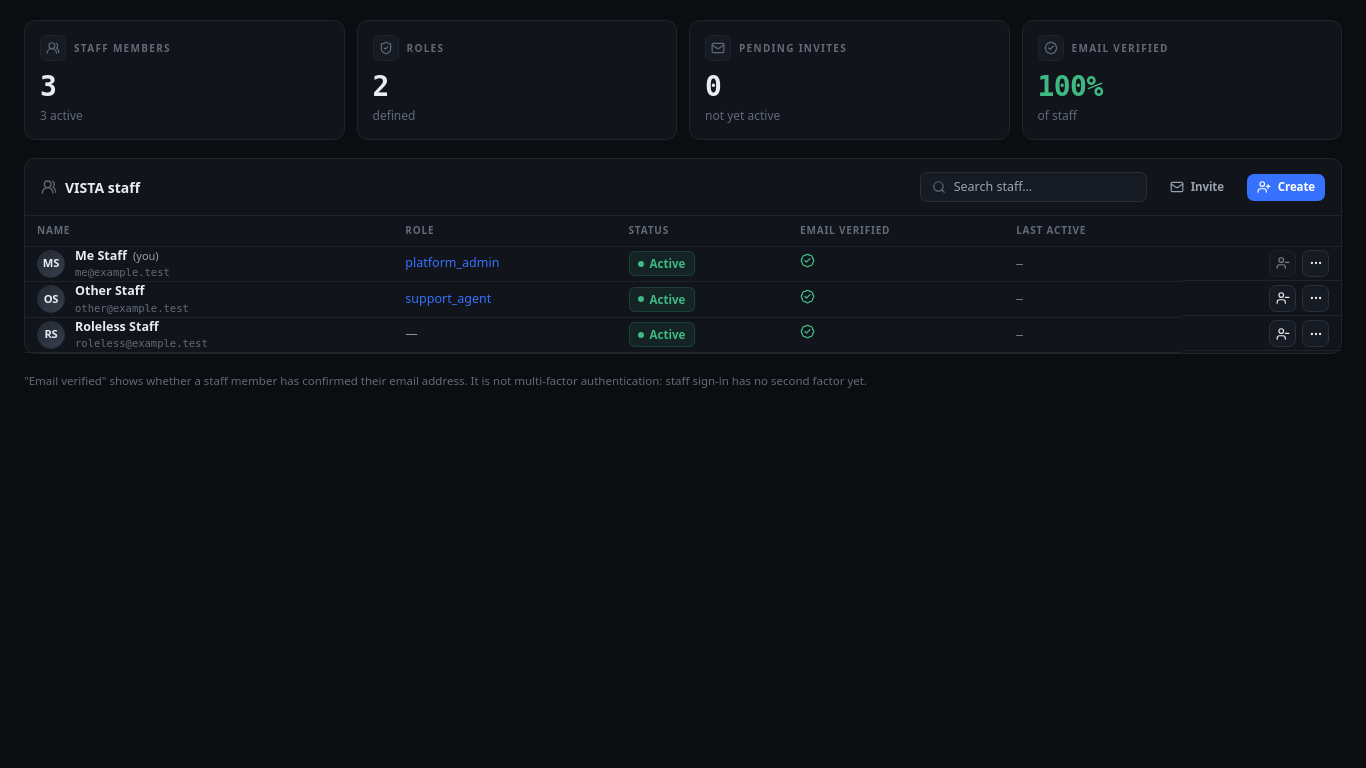
Scenario: Staff role gating › a super_admin may open their own role
Step 1. Click the button with class "op-btn" in the row of "MS" → {"x": 1316, "y": 263}, box [1302,250,1329,276]
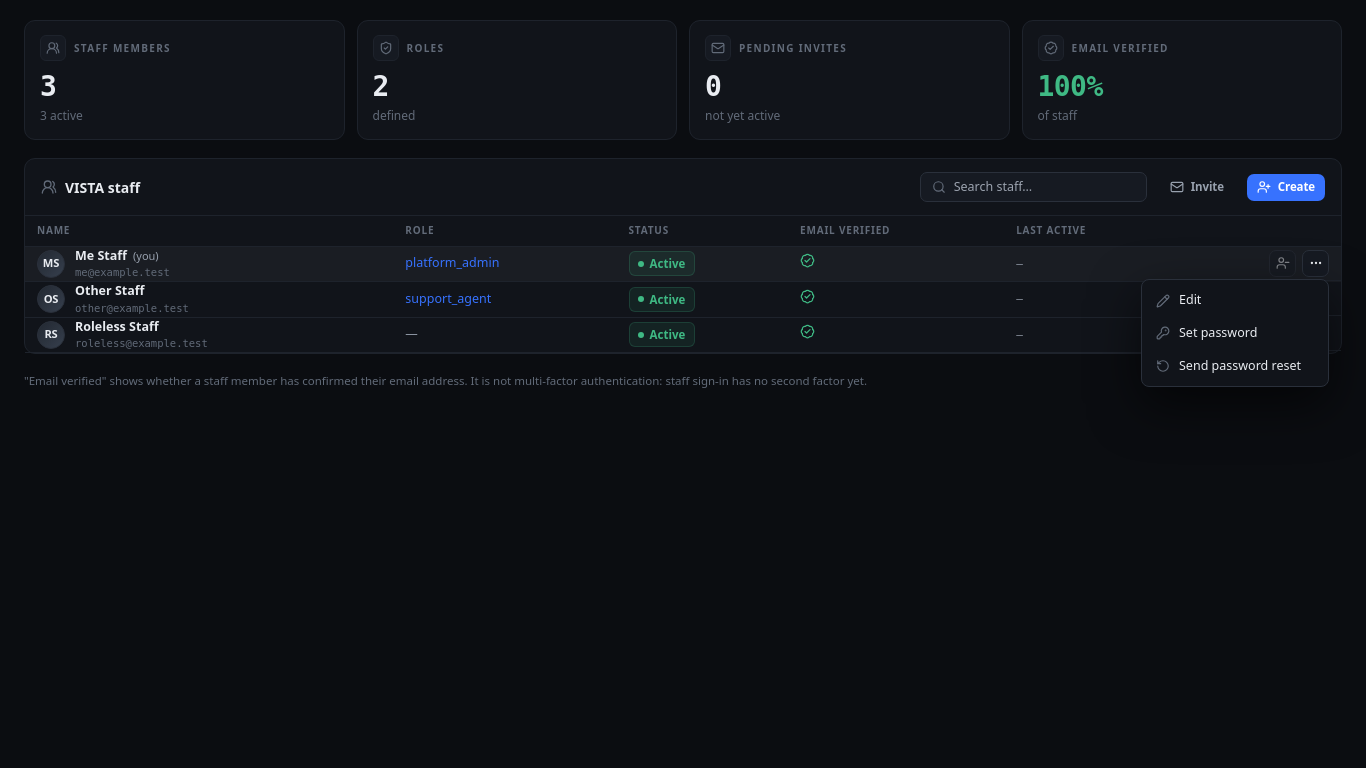
Step 2. Click the button "Edit" → {"x": 1235, "y": 301}, box [1146,284,1324,317]
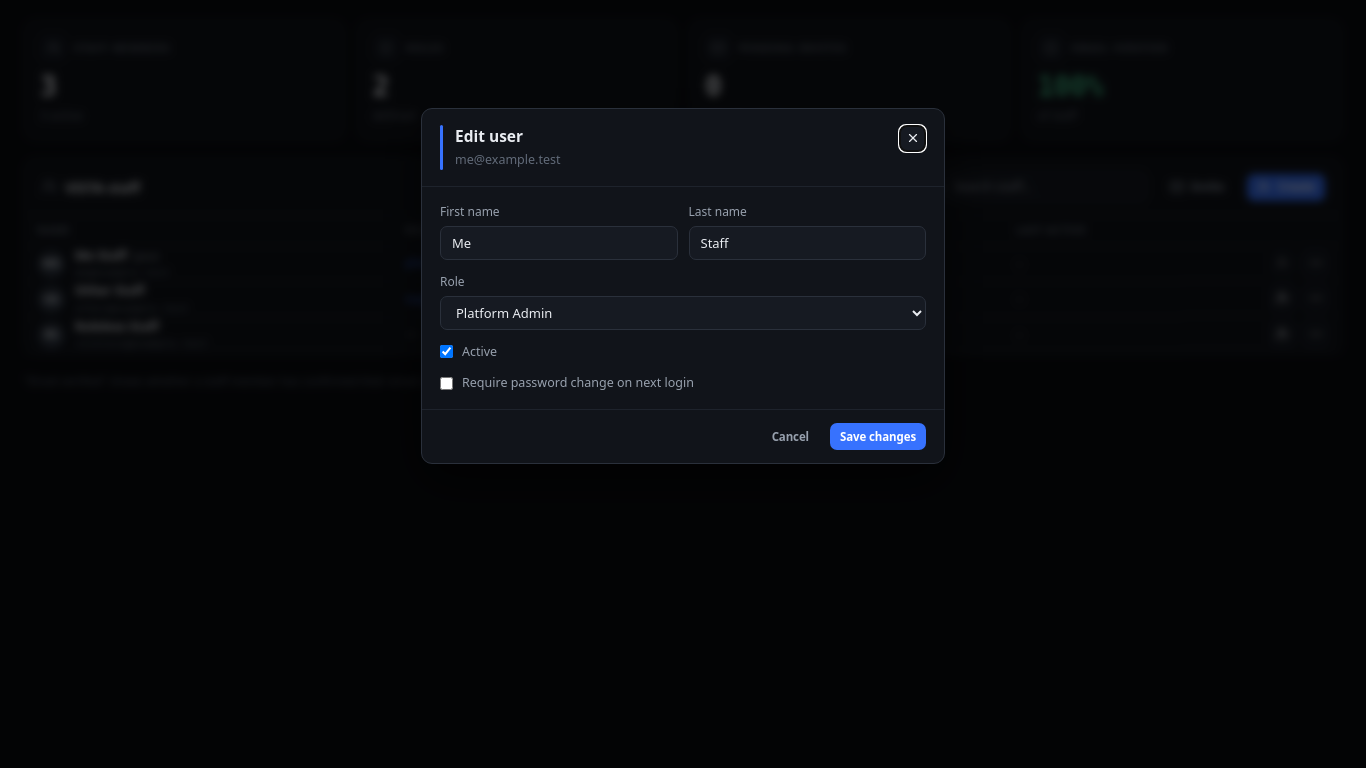
Check: the dropdown named "Role" is enabled, box [440,296,926,330]
